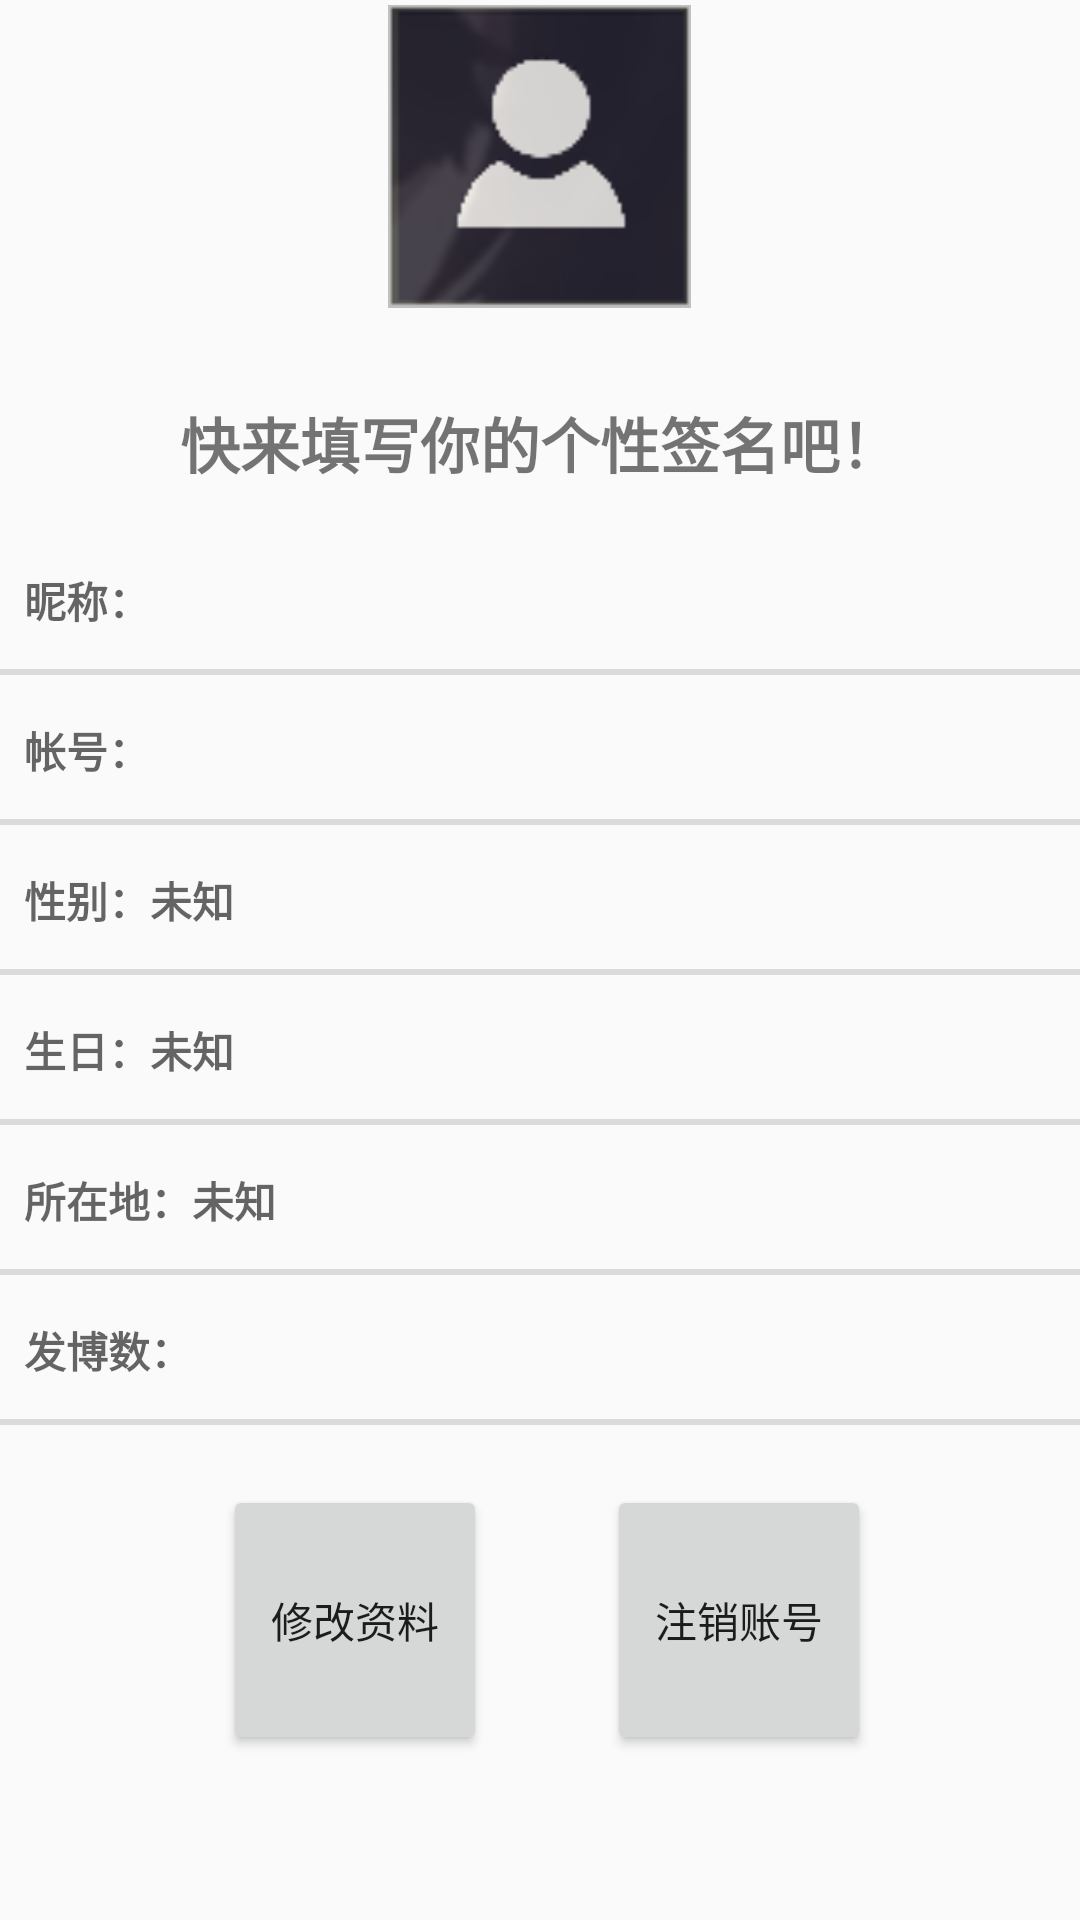

Named icons in this screenshot (1080*1920) and their centers, (x,y):
profile photo: (539,156)
